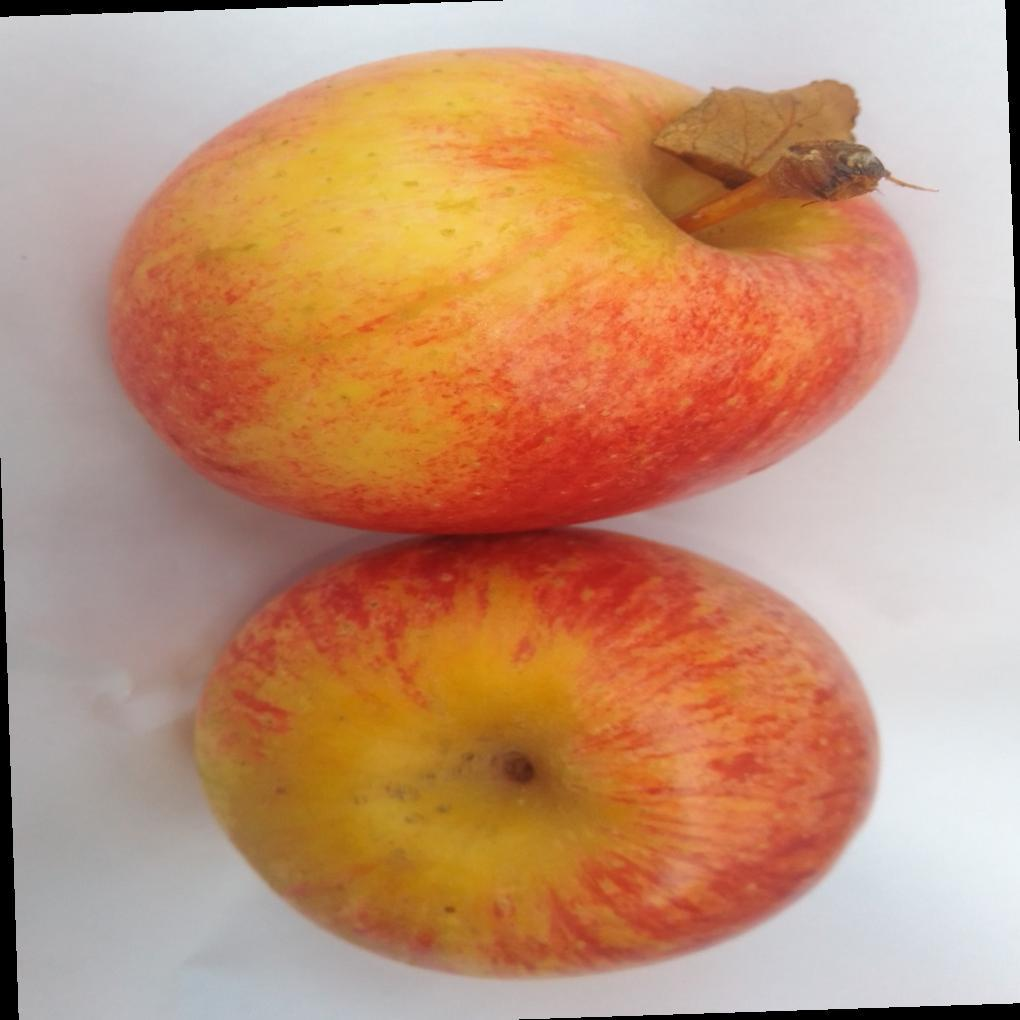FreshGuava: (104, 47, 922, 982)
